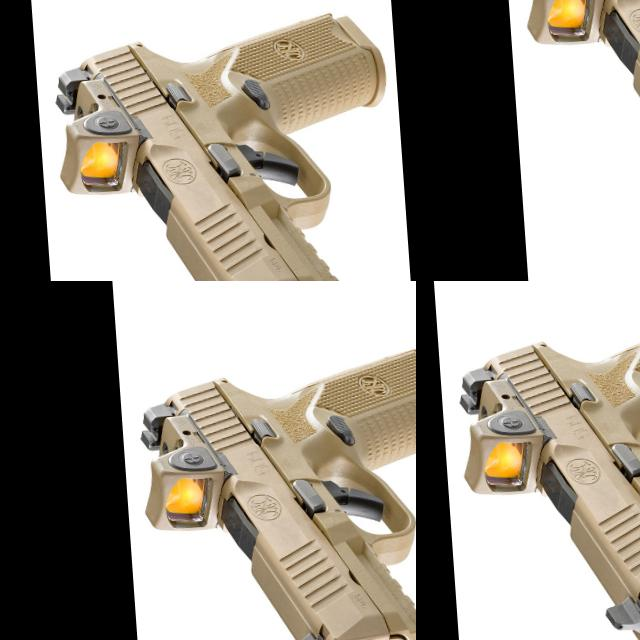handgun: (446, 302, 640, 640), (253, 516, 416, 640), (148, 0, 366, 78)
